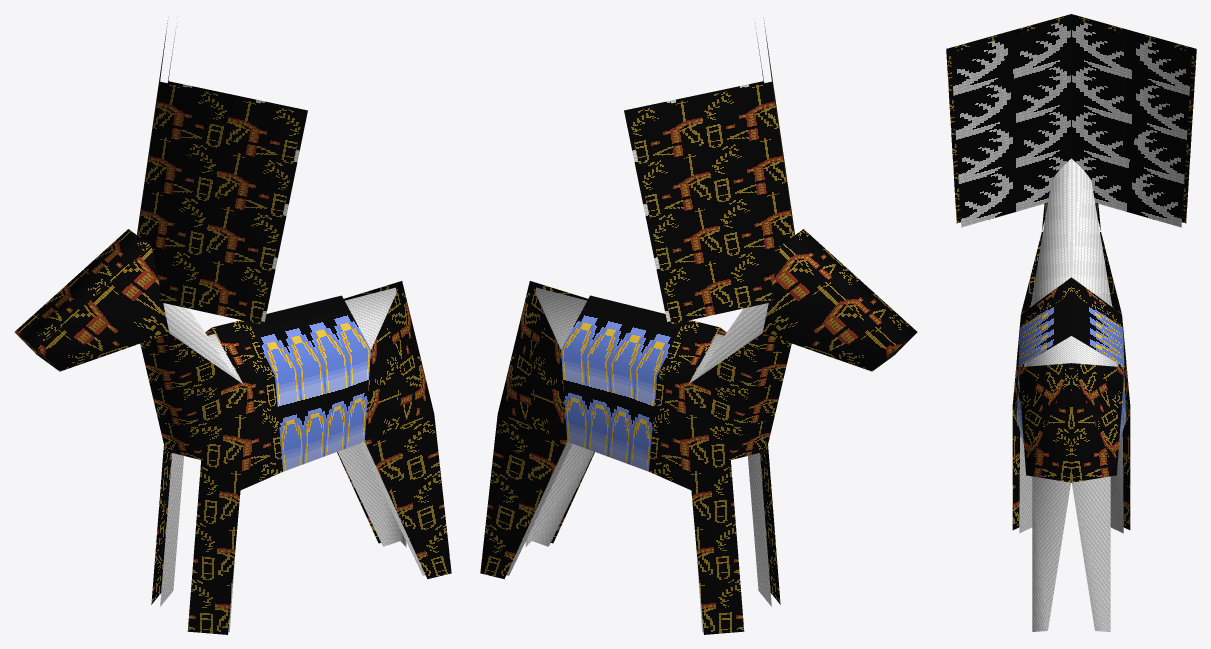
3 views of the same model, side by side, from view 1: azimuth 30°, elevation 25°; view 2: azimuth 150°, elevation 25°; view 3: azimuth 270°, elevation 25° (orthographic). The views are drawn at different scales.
Visible parts, largest first — view 1: 3765kg_sh0_12; view 2: 3765kg_sh0_12; view 3: 3765kg_sh0_12.
Boxes of the visible parts, x1=… form: 3765kg_sh0_12: x1=14, y1=18, x2=451, y2=634; 3765kg_sh0_12: x1=480, y1=18, x2=917, y2=634; 3765kg_sh0_12: x1=946, y1=14, x2=1196, y2=631.
Size of the model in its own units: 1.5 by 1.92 by 0.8723.
Materials: 5 (5 with a texture image).
